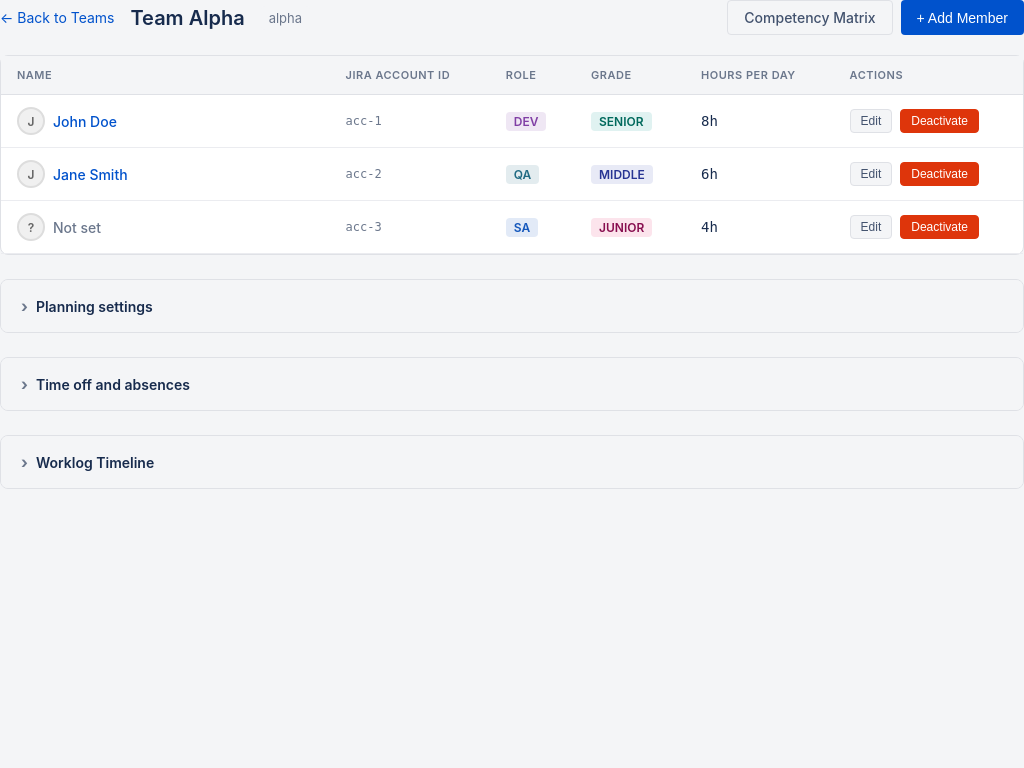
Test: TeamMembersPage › Planning Config › should expand planning config on click
Click the heading "Planning settings" at (94, 306), box [36,298,153,314]
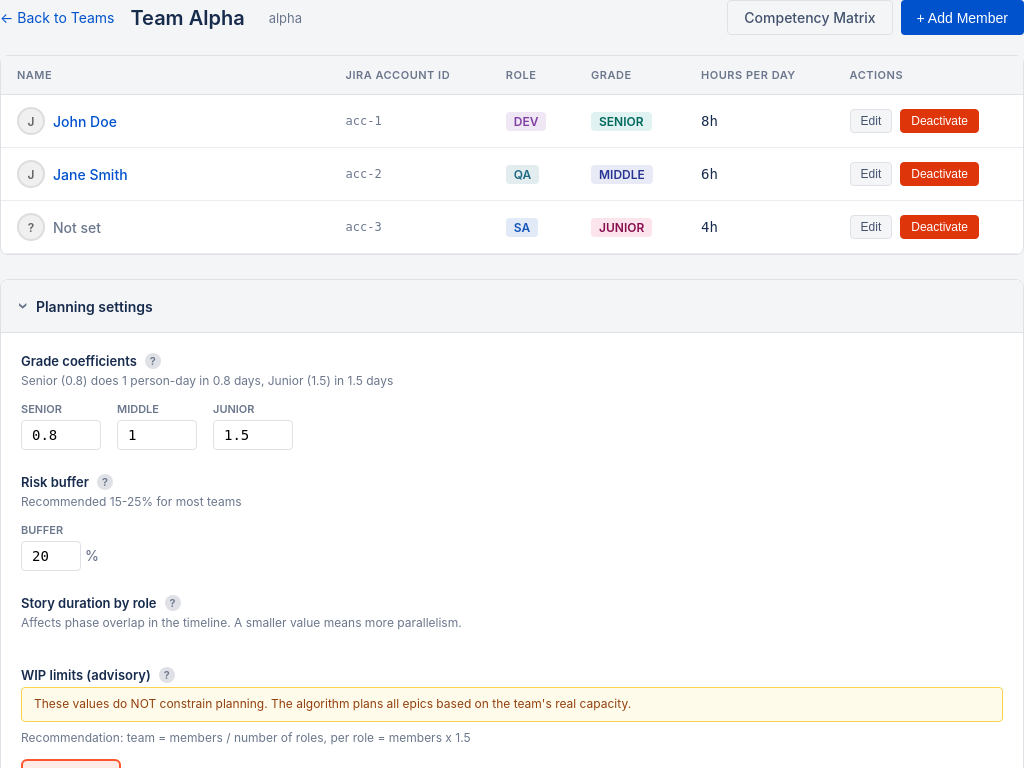
Result: the heading "Grade coefficients" is shown at [21,353,137,369]
Result: the heading "Risk buffer" is shown at [21,474,89,490]
Result: the heading "WIP limits (advisory)" is shown at [21,667,151,683]
